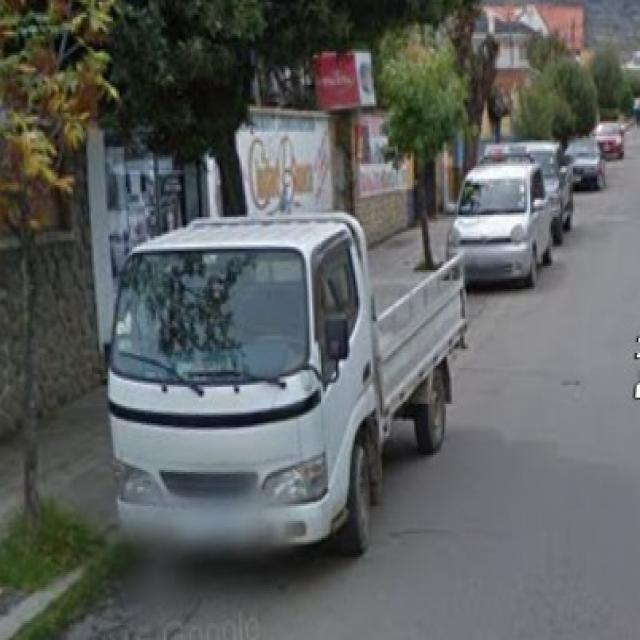cars: (105, 198, 453, 571), (455, 147, 551, 286), (566, 126, 604, 191)
